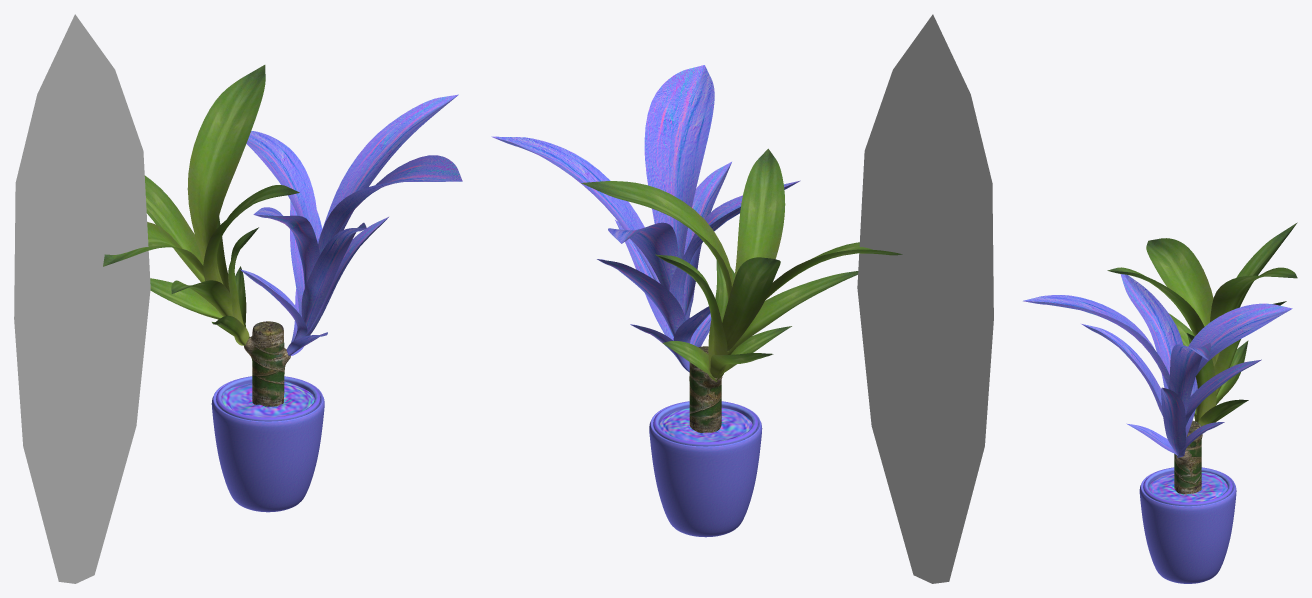
File: Tree.obj
3 views of the same model, side by side, from view 1: azimuth 30°, elevation 25°; view 2: azimuth 150°, elevation 25°; view 3: azimuth 270°, elevation 25° (orthographic). The views are drawn at different scales.
Parts seen in each view (by area): view 1: Plane_Plane.001, indoor_plant_02; view 2: Plane_Plane.001, indoor_plant_02; view 3: indoor_plant_02.
Part boxes in pixels (left/top/right/bottom): Plane_Plane.001: left=14, top=14, right=150, bottom=583; indoor_plant_02: left=103, top=65, right=462, bottom=512; Plane_Plane.001: left=857, top=14, right=993, bottom=583; indoor_plant_02: left=491, top=65, right=902, bottom=537; indoor_plant_02: left=1023, top=222, right=1297, bottom=583.
Bounding box in the file's own units: 8.26 × 9.49 × 4.86.
